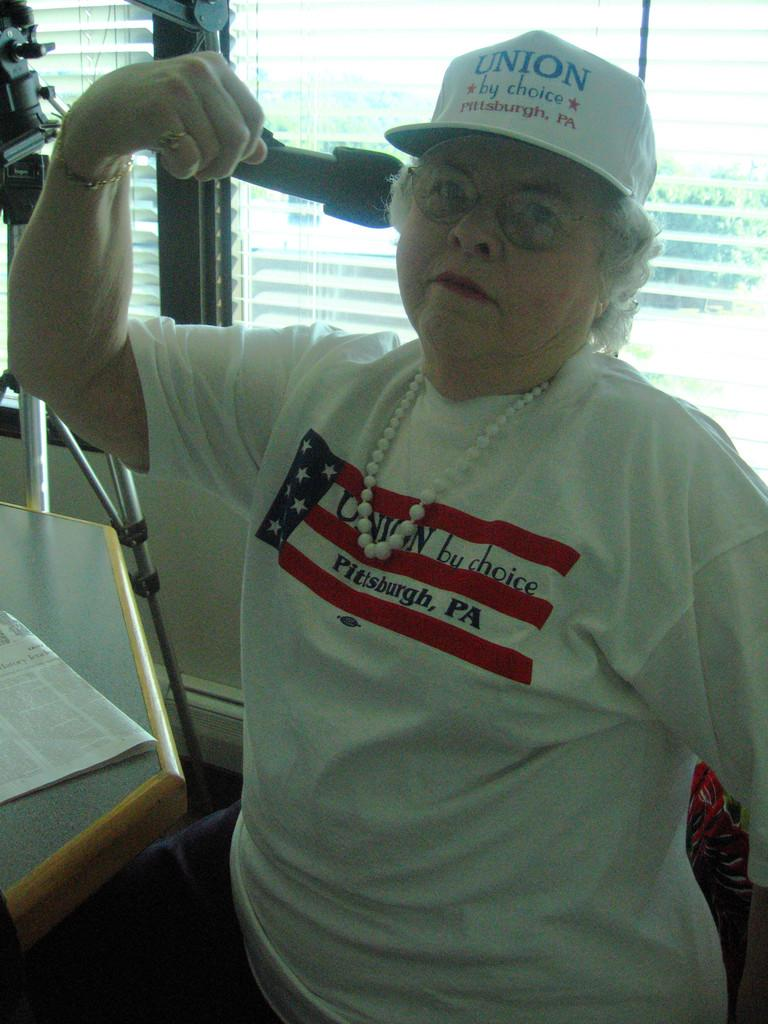Hat: (386, 23, 658, 214)
